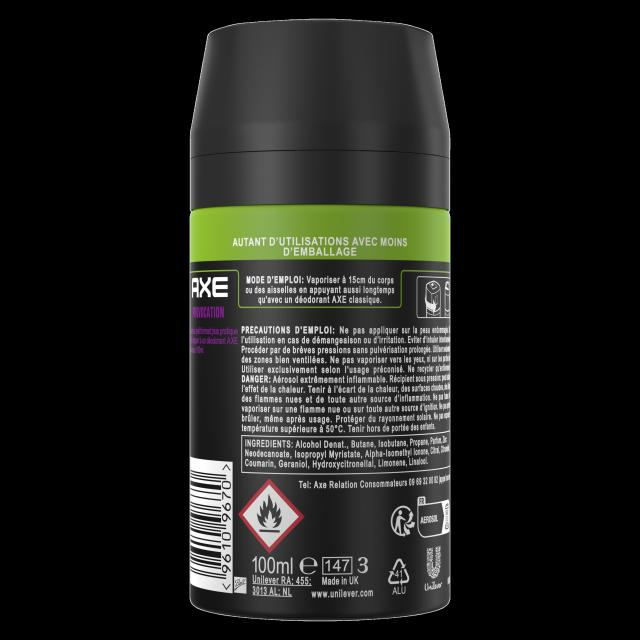GHS_Symbol_FLAME: (237, 479, 306, 553)
